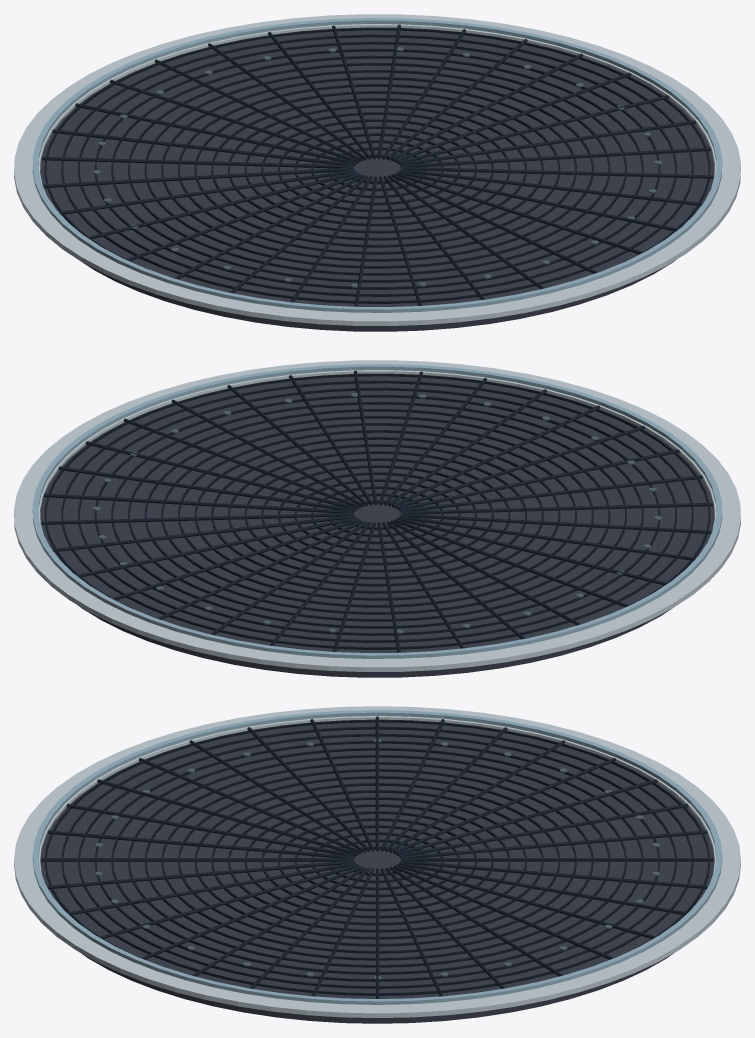
Rendered from 03_L73_GroovedPolishingPad.fbx.
The picture shows the model from 3 angles, top to bottom: view 1: azimuth 30°, elevation 25°; view 2: azimuth 150°, elevation 25°; view 3: azimuth 270°, elevation 25°; orthographic projection.
Parts seen in each view (by area): view 1: GroovedPolishingPad_Part_0000, GroovedPolishingPad_Part_0001, GroovedPolishingPad_Part_0079, GroovedPolishingPad_Part_0019, GroovedPolishingPad_Part_0018, GroovedPolishingPad_Part_0017, GroovedPolishingPad_Part_0016, GroovedPolishingPad_Part_0015, GroovedPolishingPad_Part_0014, GroovedPolishingPad_Part_0020, GroovedPolishingPad_Part_0013, GroovedPolishingPad_Part_0012 (+40 smaller); view 2: GroovedPolishingPad_Part_0000, GroovedPolishingPad_Part_0001, GroovedPolishingPad_Part_0079, GroovedPolishingPad_Part_0019, GroovedPolishingPad_Part_0018, GroovedPolishingPad_Part_0017, GroovedPolishingPad_Part_0016, GroovedPolishingPad_Part_0015, GroovedPolishingPad_Part_0014, GroovedPolishingPad_Part_0020, GroovedPolishingPad_Part_0013, GroovedPolishingPad_Part_0012 (+40 smaller); view 3: GroovedPolishingPad_Part_0000, GroovedPolishingPad_Part_0001, GroovedPolishingPad_Part_0079, GroovedPolishingPad_Part_0019, GroovedPolishingPad_Part_0018, GroovedPolishingPad_Part_0016, GroovedPolishingPad_Part_0017, GroovedPolishingPad_Part_0015, GroovedPolishingPad_Part_0014, GroovedPolishingPad_Part_0020, GroovedPolishingPad_Part_0013, GroovedPolishingPad_Part_0012 (+39 smaller).
Part boxes in pixels (x1,y1,x2,y2): GroovedPolishingPad_Part_0000: (40, 30, 714, 331); GroovedPolishingPad_Part_0001: (14, 14, 740, 325); GroovedPolishingPad_Part_0079: (32, 18, 722, 312); GroovedPolishingPad_Part_0019: (61, 34, 693, 303); GroovedPolishingPad_Part_0018: (78, 41, 676, 296); GroovedPolishingPad_Part_0017: (94, 48, 660, 289); GroovedPolishingPad_Part_0016: (111, 55, 643, 282); GroovedPolishingPad_Part_0015: (128, 62, 626, 275); GroovedPolishingPad_Part_0014: (144, 70, 610, 268); GroovedPolishingPad_Part_0020: (44, 27, 710, 271); GroovedPolishingPad_Part_0013: (161, 77, 593, 261); GroovedPolishingPad_Part_0012: (178, 84, 576, 254); GroovedPolishingPad_Part_0000: (40, 376, 714, 677); GroovedPolishingPad_Part_0001: (14, 360, 740, 671); GroovedPolishingPad_Part_0079: (32, 364, 722, 658); GroovedPolishingPad_Part_0019: (61, 380, 693, 649); GroovedPolishingPad_Part_0018: (78, 387, 676, 642); GroovedPolishingPad_Part_0017: (94, 394, 660, 635); GroovedPolishingPad_Part_0016: (111, 401, 643, 628); GroovedPolishingPad_Part_0015: (128, 408, 626, 621); GroovedPolishingPad_Part_0014: (144, 416, 610, 614); GroovedPolishingPad_Part_0020: (44, 373, 710, 617); GroovedPolishingPad_Part_0013: (161, 423, 593, 607); GroovedPolishingPad_Part_0012: (178, 430, 576, 600); GroovedPolishingPad_Part_0000: (40, 722, 714, 1023); GroovedPolishingPad_Part_0001: (14, 706, 740, 1017); GroovedPolishingPad_Part_0079: (32, 710, 722, 1004); GroovedPolishingPad_Part_0019: (61, 726, 693, 995); GroovedPolishingPad_Part_0018: (78, 733, 676, 988); GroovedPolishingPad_Part_0016: (111, 747, 643, 974); GroovedPolishingPad_Part_0017: (94, 740, 660, 981); GroovedPolishingPad_Part_0015: (128, 755, 626, 967); GroovedPolishingPad_Part_0014: (144, 762, 610, 960); GroovedPolishingPad_Part_0020: (44, 719, 710, 957); GroovedPolishingPad_Part_0013: (161, 769, 593, 953); GroovedPolishingPad_Part_0012: (178, 776, 576, 946).
Bounding box in the file's own units: 487 × 15.5 × 487.
